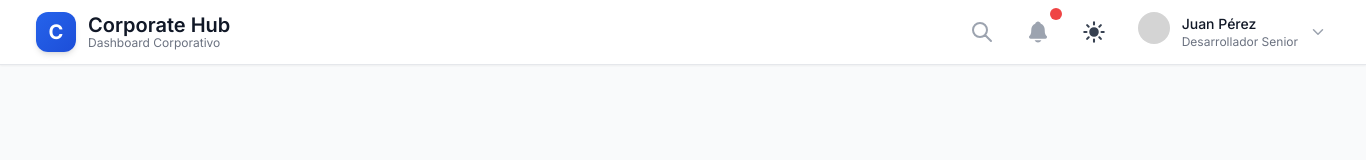
Test: Header Expandable Search › expands search input when search icon is clicked
Click search icon
Click the button named "Abrir búsqueda": (982, 32) [962,12,1002,52]
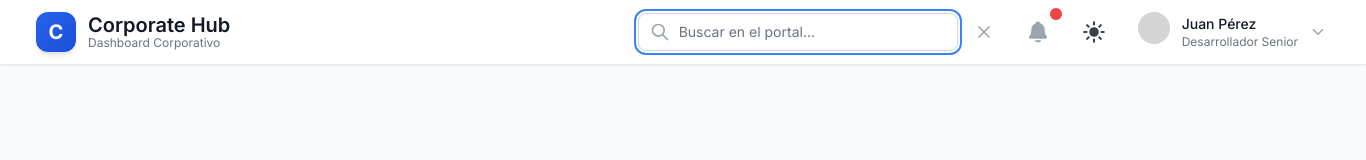
Check: the search field named "Campo de búsqueda" is shown, box [638,13,958,51]
Check: the button named "Cerrar búsqueda" is shown, box [966,14,1002,50]
